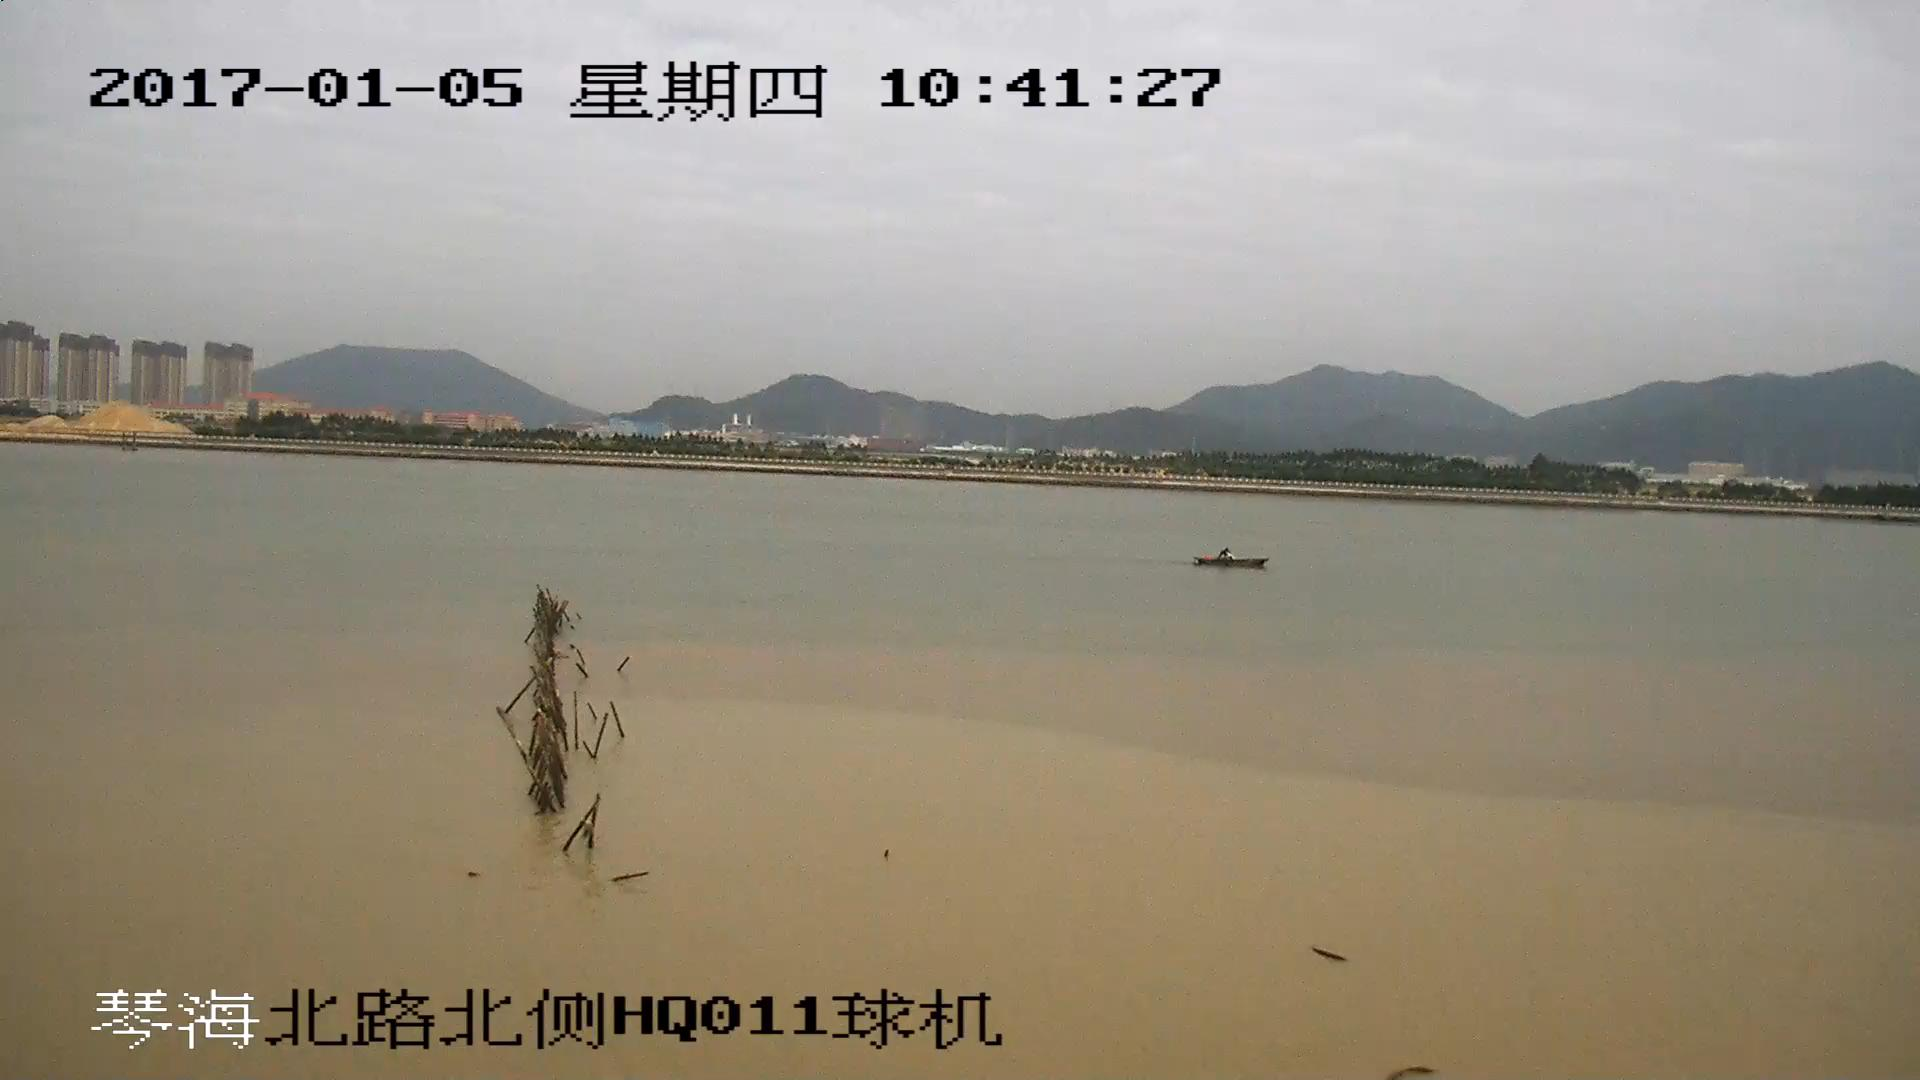fishing boat: (1191, 545, 1270, 569)
